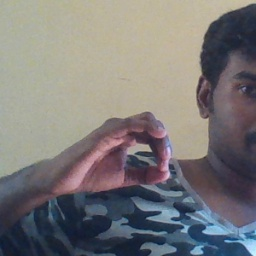O: (46, 110, 173, 196)
